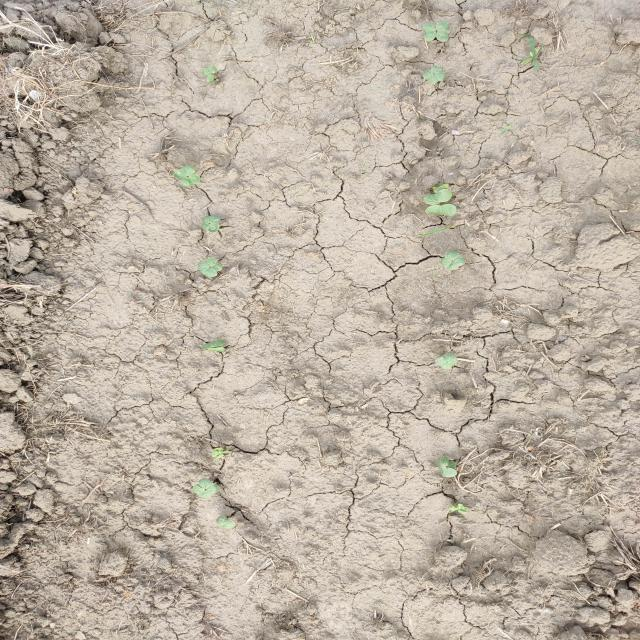seedling_s2: (424, 189, 452, 205), (425, 204, 456, 216), (198, 478, 219, 494), (197, 261, 217, 277), (437, 461, 457, 477), (174, 165, 195, 180), (436, 20, 450, 42), (445, 251, 465, 266), (192, 485, 211, 499), (202, 66, 217, 83), (435, 353, 456, 365), (216, 516, 235, 529), (423, 23, 436, 41), (202, 339, 225, 349), (423, 69, 438, 84), (206, 257, 222, 271), (439, 456, 456, 469), (209, 215, 221, 233), (440, 258, 458, 270), (431, 66, 445, 81), (181, 175, 200, 186), (443, 358, 458, 370), (201, 216, 210, 231), (205, 347, 225, 352)
